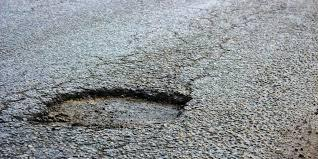pothole: (12, 80, 201, 152)
